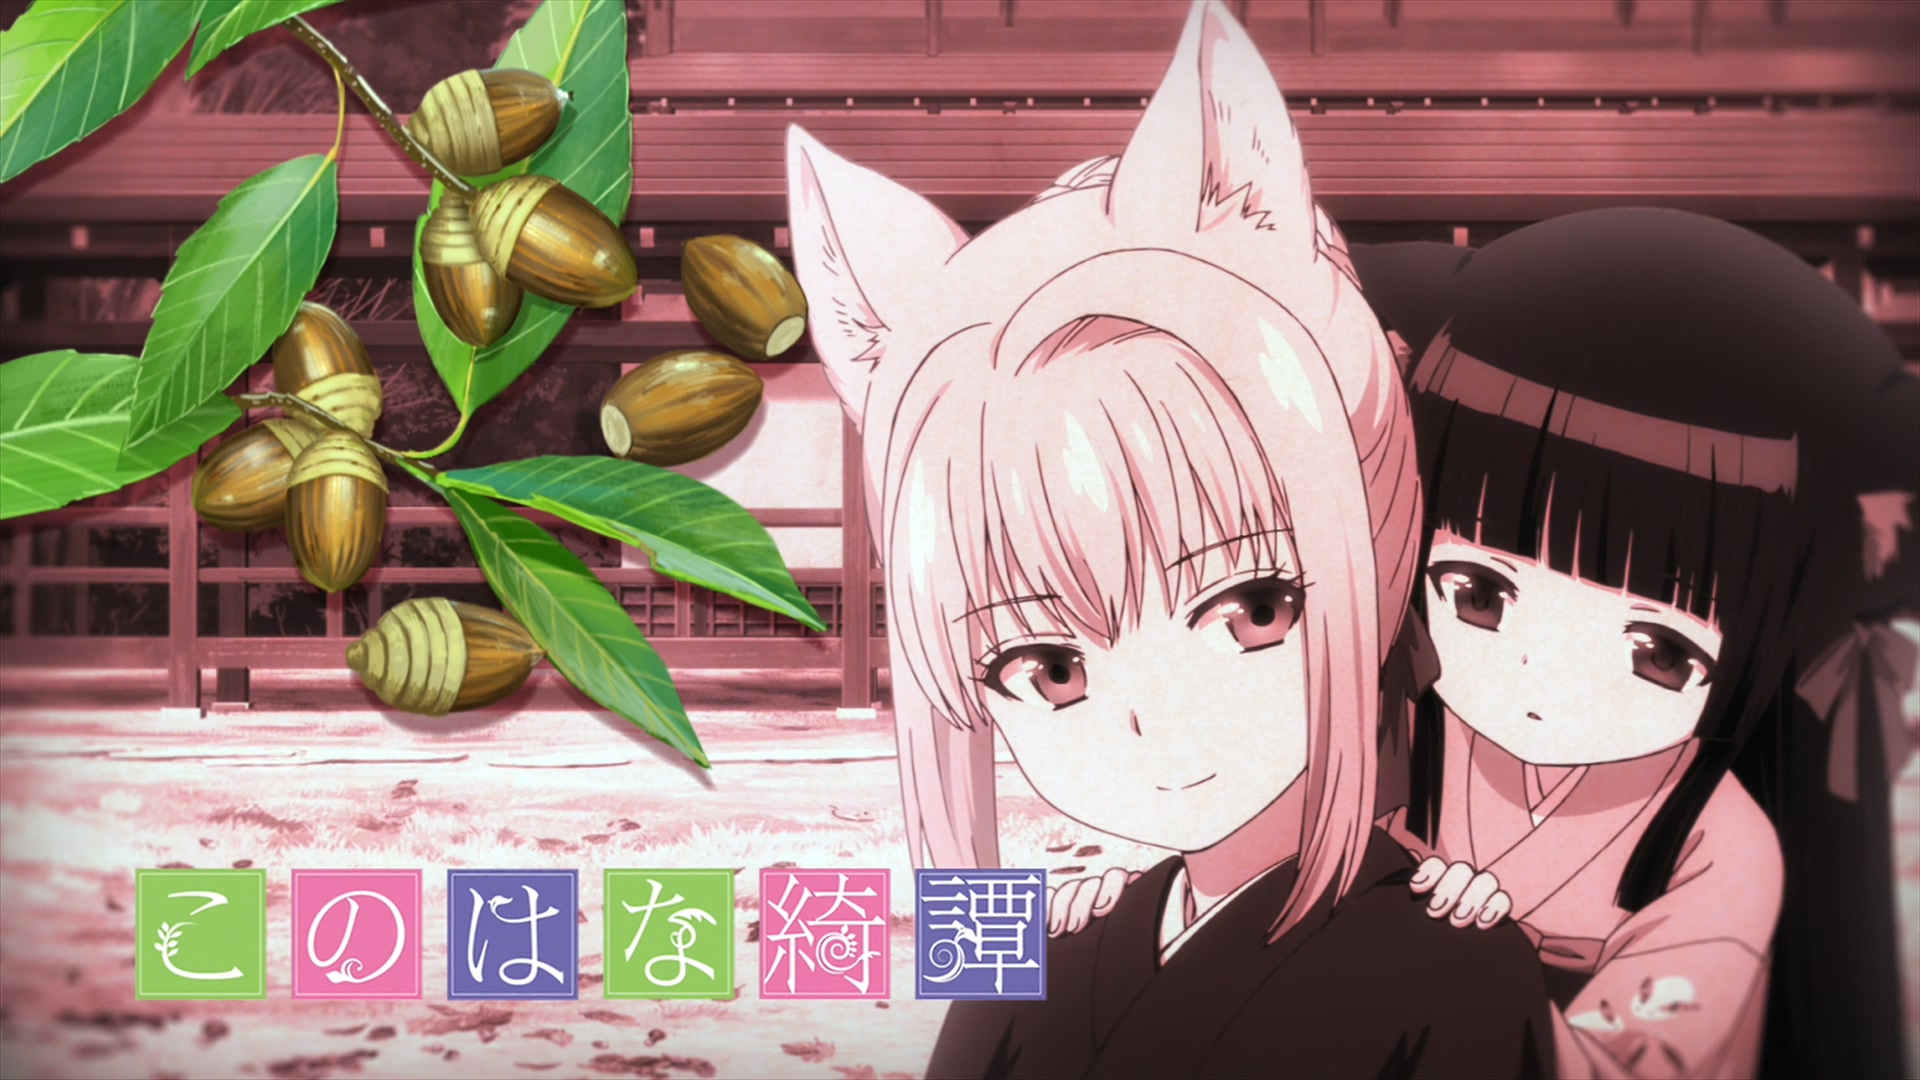桐: (785, 1, 1557, 1080)
樱: (1352, 204, 1920, 1080)
